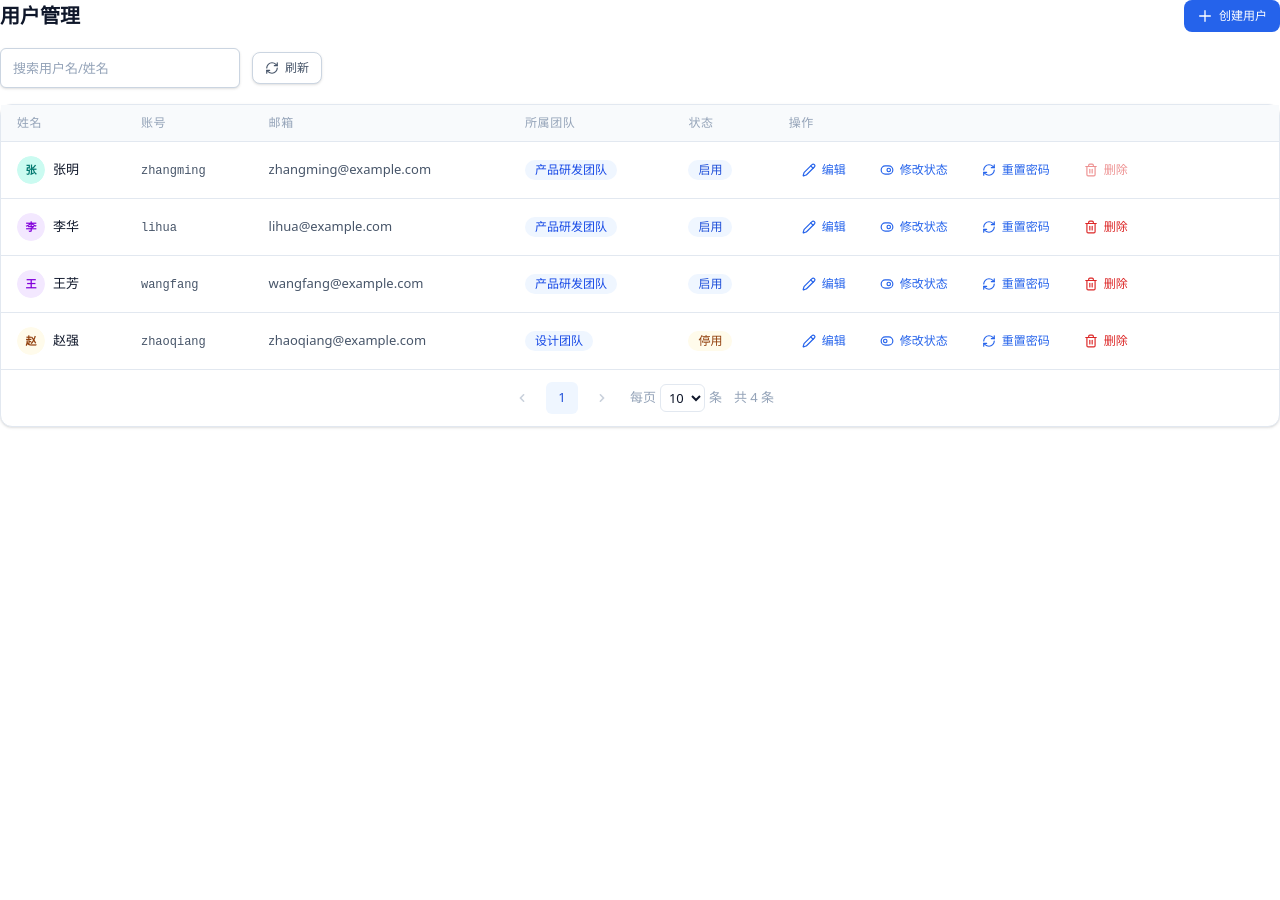
UserManagementPage › reset password dialog › shows validation error when password is empty on submit
This screenshot has width=1280, height=900.
Expected: the text "张明" is shown, left=53, top=160, right=79, bottom=180
Click the button "重置密码" in the row of "李华": [1016, 227] box left=969, top=211, right=1063, bottom=243
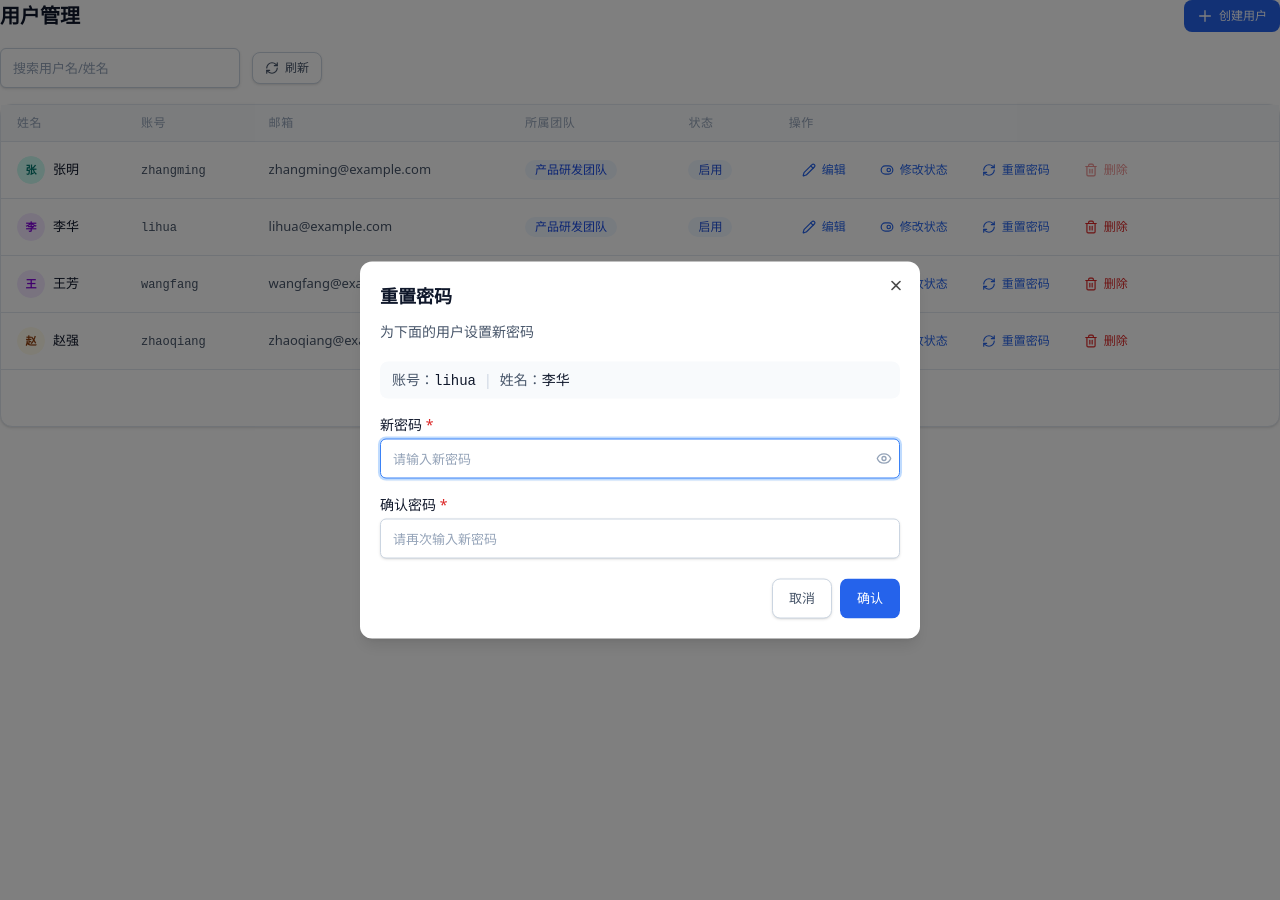
Result: the text "为下面的用户设置新密码" is shown at left=380, top=322, right=534, bottom=340
Click the button "确认": [870, 598] box left=840, top=578, right=900, bottom=618
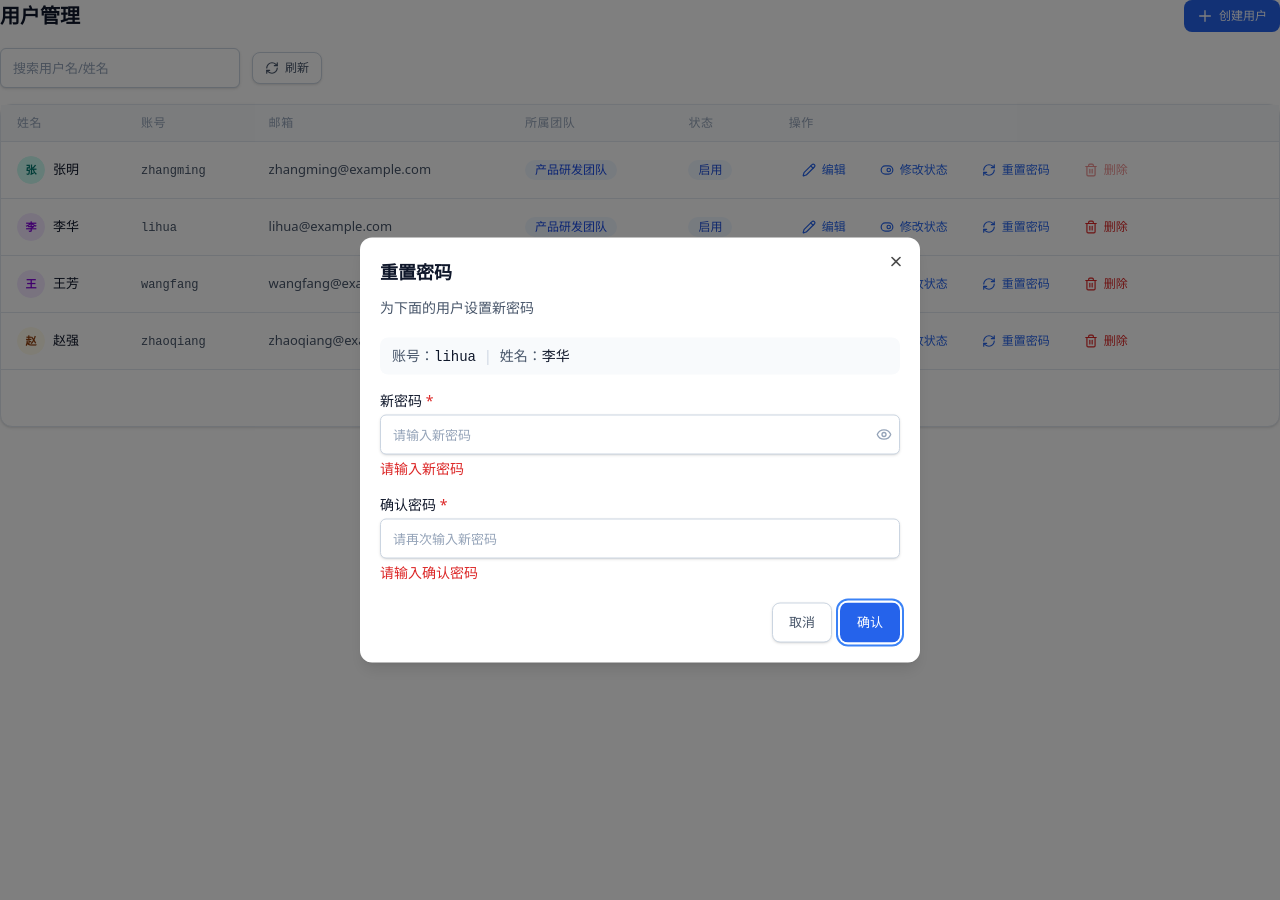
Result: the text "请输入新密码" is shown at left=380, top=458, right=464, bottom=478
